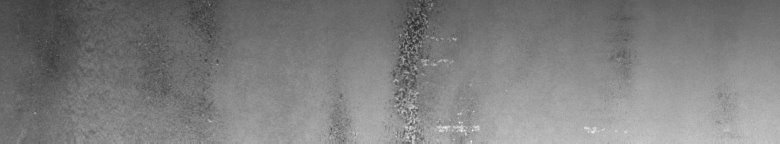hc: (324, 4, 480, 136)
